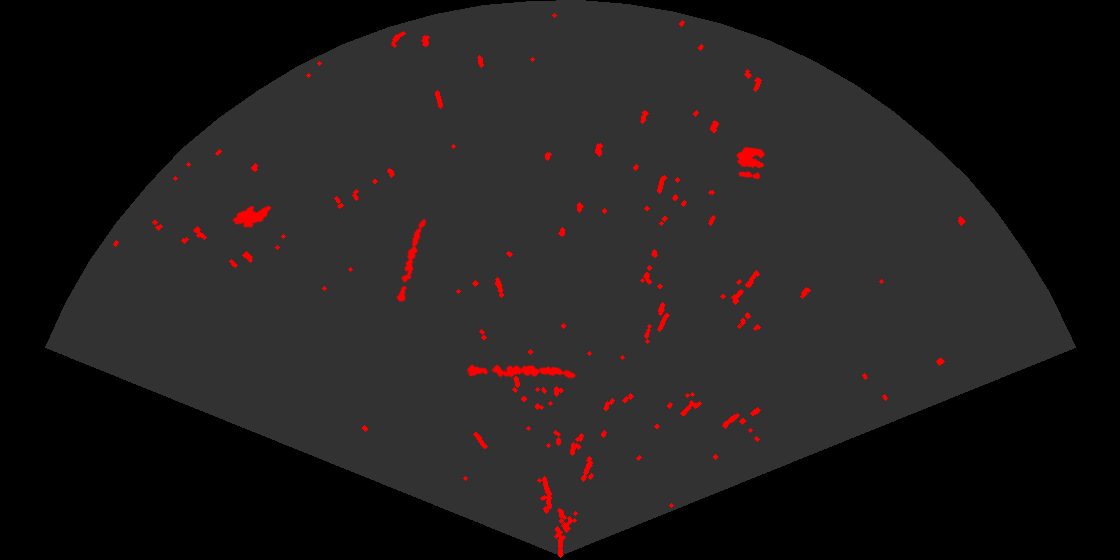AUV: (231, 204, 273, 230)
ball: (735, 145, 767, 181)
chain: (394, 217, 428, 304), (466, 363, 577, 380)
